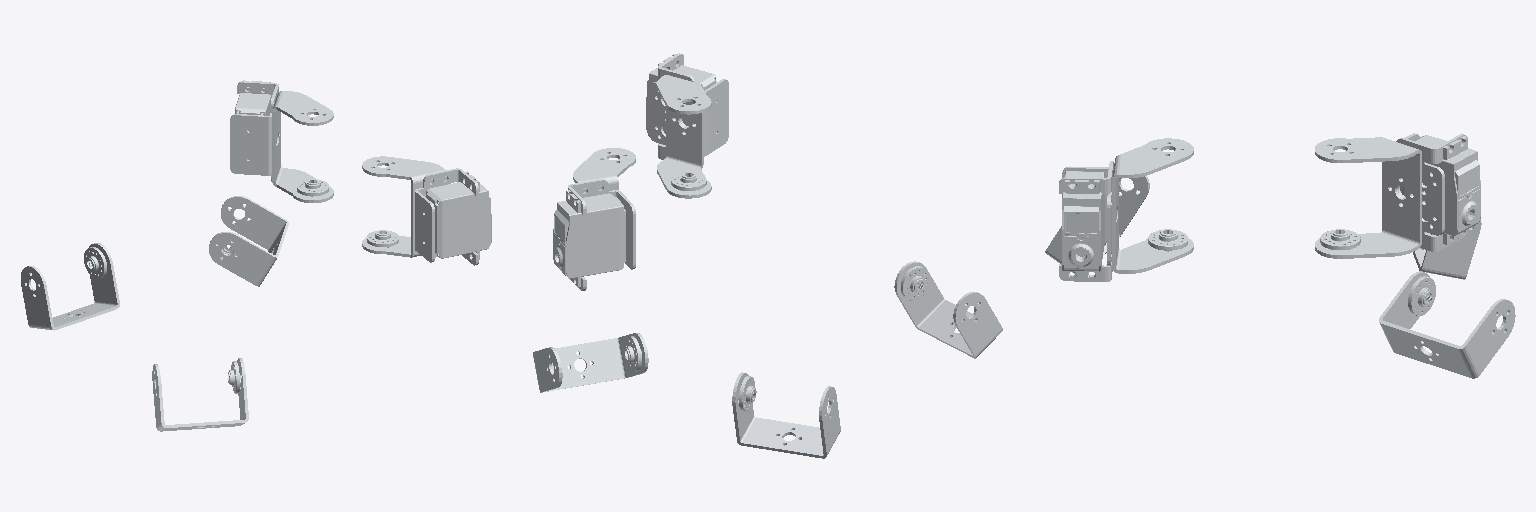
URDF robot description (Quadruped):
<?xml version="1.0" encoding="utf-8"?>
<!-- This URDF was automatically created by SolidWorks to URDF Exporter! Originally created by [author] ([email redacted]) 
     Commit Version: 1.6.0-4-g7f85cfe  Build Version: 1.6.7995.38578
     For more information, please see http://wiki.ros.org/sw_urdf_exporter -->
<robot
  name="Quadruped">
  <link
    name="base_link">
    <inertial>
      <origin
        xyz="0.00952304124015213 -0.0384999999836778 0.0139434635699888"
        rpy="0 0 0" />
      <mass
        value="0.267600954992518" />
      <inertia
        ixx="9.27694563083199E-05"
        ixy="7.75151444361343E-14"
        ixz="-2.56413813792822E-17"
        iyy="3.60005886849802E-05"
        iyz="6.50891916828143E-13"
        izz="9.02125920436437E-05" />
    </inertial>
    <visual>
      <origin
        xyz="0 0 0"
        rpy="0 0 0" />
      <geometry>
        <mesh
          filename="meshes/base_link.STL" />
      </geometry>
      <material
        name="">
        <color
          rgba="0.894117647058823 0.913725490196078 0.929411764705882 1" />
      </material>
    </visual>
    <collision>
      <origin
        xyz="0 0 0"
        rpy="0 0 0" />
      <geometry>
        <mesh
          filename="meshes/base_link.STL" />
      </geometry>
    </collision>
  </link>
  <link
    name="leg_1_hip">
    <inertial>
      <origin
        xyz="0.0238940041079062 0.031792584261488 0.026781309985059"
        rpy="0 0 0" />
      <mass
        value="0.067077762894934" />
      <inertia
        ixx="2.37941932882446E-05"
        ixy="-1.03091198376917E-06"
        ixz="-2.0851787492699E-08"
        iyy="2.49239414009393E-05"
        iyz="-5.27852080190577E-11"
        izz="1.06832163798715E-05" />
    </inertial>
    <visual>
      <origin
        xyz="0 0 0"
        rpy="0 0 0" />
      <geometry>
        <mesh
          filename="meshes/leg_1_hip.STL" />
      </geometry>
      <material
        name="">
        <color
          rgba="0.894117647058823 0.913725490196078 0.929411764705882 1" />
      </material>
    </visual>
    <collision>
      <origin
        xyz="0 0 0"
        rpy="0 0 0" />
      <geometry>
        <mesh
          filename="meshes/leg_1_hip.STL" />
      </geometry>
    </collision>
  </link>
  <joint
    name="leg1_hip_joint"
    type="revolute">
    <origin
      xyz="0.06197 -0.082557 0.0385"
      rpy="3.1416 0 -0.056054" />
    <parent
      link="base_link" />
    <child
      link="leg_1_hip" />
    <axis
      xyz="0 0 1" />
    <limit
      lower="0"
      upper="3"
      effort="10"
      velocity="5" />
  </joint>
  <link
    name="leg_1_knee">
    <inertial>
      <origin
        xyz="-0.0416421850295465 0.0235364816921849 -0.0309446231834363"
        rpy="0 0 0" />
      <mass
        value="0.0696914928060746" />
      <inertia
        ixx="2.57631280608198E-05"
        ixy="-3.96590049532033E-07"
        ixz="-1.13787464895981E-07"
        iyy="1.97651580535786E-05"
        iyz="-3.60662001602266E-07"
        izz="2.57670138527122E-05" />
    </inertial>
    <visual>
      <origin
        xyz="0 0 0"
        rpy="0 0 0" />
      <geometry>
        <mesh
          filename="meshes/leg_1_knee.STL" />
      </geometry>
      <material
        name="">
        <color
          rgba="0.298039215686275 0.298039215686275 0.298039215686275 1" />
      </material>
    </visual>
    <collision>
      <origin
        xyz="0 0 0"
        rpy="0 0 0" />
      <geometry>
        <mesh
          filename="meshes/leg_1_knee.STL" />
      </geometry>
    </collision>
  </link>
  <joint
    name="leg_1_knee_joint"
    type="revolute">
    <origin
      xyz="0.060665 0.04177 0.036307"
      rpy="3.1416 0 -1.5708" />
    <parent
      link="leg_1_hip" />
    <child
      link="leg_1_knee" />
    <axis
      xyz="0 -1 0" />
    <limit
      lower="0"
      upper="3"
      effort="10"
      velocity="5" />
  </joint>
  <link
    name="leg_1_ankle">
    <inertial>
      <origin
        xyz="3.36841665671272E-13 0.0280775387533091 0.0172277429088525"
        rpy="0 0 0" />
      <mass
        value="0.0169824099129692" />
      <inertia
        ixx="1.11378366738052E-05"
        ixy="-3.17637355220363E-22"
        ixz="-4.87043944671223E-21"
        iyy="3.39360074925846E-06"
        iyz="-1.38701645112892E-20"
        izz="9.36668224662848E-06" />
    </inertial>
    <visual>
      <origin
        xyz="0 0 0"
        rpy="0 0 0" />
      <geometry>
        <mesh
          filename="meshes/leg_1_ankle.STL" />
      </geometry>
      <material
        name="">
        <color
          rgba="0.298039215686275 0.298039215686275 0.298039215686275 1" />
      </material>
    </visual>
    <collision>
      <origin
        xyz="0 0 0"
        rpy="0 0 0" />
      <geometry>
        <mesh
          filename="meshes/leg_1_ankle.STL" />
      </geometry>
    </collision>
  </link>
  <joint
    name="leg_1_ankle_joint"
    type="revolute">
    <origin
      xyz="-0.046499 0.0005 -0.045091"
      rpy="3.1416 -1.0269 -3.1416" />
    <parent
      link="leg_1_knee" />
    <child
      link="leg_1_ankle" />
    <axis
      xyz="0 -1 0" />
    <limit
      lower="0"
      upper="3"
      effort="10"
      velocity="5" />
  </joint>
  <link
    name="leg_2_hip">
    <inertial>
      <origin
        xyz="0.0238940050809038 -0.0318845074159718 0.0267811755415515"
        rpy="0 0 0" />
      <mass
        value="0.0670777528778422" />
      <inertia
        ixx="2.37941887246457E-05"
        ixy="1.03091155379707E-06"
        ixz="-2.08140379608125E-08"
        iyy="2.49239360302726E-05"
        iyz="-5.3739351215238E-11"
        izz="1.06832159298643E-05" />
    </inertial>
    <visual>
      <origin
        xyz="0 0 0"
        rpy="0 0 0" />
      <geometry>
        <mesh
          filename="meshes/leg_2_hip.STL" />
      </geometry>
      <material
        name="">
        <color
          rgba="0.894117647058823 0.913725490196078 0.929411764705882 1" />
      </material>
    </visual>
    <collision>
      <origin
        xyz="0 0 0"
        rpy="0 0 0" />
      <geometry>
        <mesh
          filename="meshes/leg_2_hip.STL" />
      </geometry>
    </collision>
  </link>
  <joint
    name="leg_2_hip_joint"
    type="revolute">
    <origin
      xyz="0.06177 0.0055571 0.0385"
      rpy="3.1416 0 0.90705" />
    <parent
      link="base_link" />
    <child
      link="leg_2_hip" />
    <axis
      xyz="0 0 -1" />
    <limit
      lower="0"
      upper="3"
      effort="10"
      velocity="5" />
  </joint>
  <link
    name="leg_2_knee">
    <inertial>
      <origin
        xyz="-0.0172246793386854 0.0235364817623663 0.0489382442054168"
        rpy="0 0 0" />
      <mass
        value="0.0696914931210657" />
      <inertia
        ixx="2.58698344231019E-05"
        ixy="-1.27169967368347E-07"
        ixz="4.44517106603271E-08"
        iyy="1.97651573719921E-05"
        iyz="5.20757570984245E-07"
        izz="2.56603065089136E-05" />
    </inertial>
    <visual>
      <origin
        xyz="0 0 0"
        rpy="0 0 0" />
      <geometry>
        <mesh
          filename="meshes/leg_2_knee.STL" />
      </geometry>
      <material
        name="">
        <color
          rgba="0.894117647058823 0.913725490196078 0.929411764705882 1" />
      </material>
    </visual>
    <collision>
      <origin
        xyz="0 0 0"
        rpy="0 0 0" />
      <geometry>
        <mesh
          filename="meshes/leg_2_knee.STL" />
      </geometry>
    </collision>
  </link>
  <joint
    name="leg_2_knee_joint"
    type="revolute">
    <origin
      xyz="0.060665 -0.04197 0.036307"
      rpy="0 0 1.5708" />
    <parent
      link="leg_2_hip" />
    <child
      link="leg_2_knee" />
    <axis
      xyz="0 -1 0" />
    <limit
      lower="0"
      upper="3"
      effort="10"
      velocity="5" />
  </joint>
  <link
    name="leg_2_ankle">
    <inertial>
      <origin
        xyz="-8.41826608422025E-14 0.0280775387534135 0.0172277429085822"
        rpy="0 0 0" />
      <mass
        value="0.0169824099129692" />
      <inertia
        ixx="1.11378366738051E-05"
        ixy="-3.42121901351932E-21"
        ixz="6.85567291683949E-21"
        iyy="3.39360074925846E-06"
        iyz="9.15854374218712E-21"
        izz="9.36668224662836E-06" />
    </inertial>
    <visual>
      <origin
        xyz="0 0 0"
        rpy="0 0 0" />
      <geometry>
        <mesh
          filename="meshes/leg_2_ankle.STL" />
      </geometry>
      <material
        name="">
        <color
          rgba="0.894117647058823 0.913725490196078 0.929411764705882 1" />
      </material>
    </visual>
    <collision>
      <origin
        xyz="0 0 0"
        rpy="0 0 0" />
      <geometry>
        <mesh
          filename="meshes/leg_2_ankle.STL" />
      </geometry>
    </collision>
  </link>
  <joint
    name="leg_2_ankle_joint"
    type="revolute">
    <origin
      xyz="-0.013342 0.0005 0.063382"
      rpy="0 1.0652 0" />
    <parent
      link="leg_2_knee" />
    <child
      link="leg_2_ankle" />
    <axis
      xyz="0 -1 0" />
    <limit
      lower="0"
      upper="3"
      effort="10"
      velocity="5" />
  </joint>
  <link
    name="leg_3_hip">
    <inertial>
      <origin
        xyz="0.0241828875435537 0.0321769622766387 0.0275025602046744"
        rpy="0 0 0" />
      <mass
        value="0.0662764719650818" />
      <inertia
        ixx="2.3772765111836E-05"
        ixy="-1.03091231788725E-06"
        ixz="-2.08511149937911E-08"
        iyy="2.49025134599967E-05"
        iyz="-5.21654116313531E-11"
        izz="1.06429146618344E-05" />
    </inertial>
    <visual>
      <origin
        xyz="0 0 0"
        rpy="0 0 0" />
      <geometry>
        <mesh
          filename="meshes/leg_3_hip.STL" />
      </geometry>
      <material
        name="">
        <color
          rgba="0.894117647058823 0.913725490196078 0.929411764705882 1" />
      </material>
    </visual>
    <collision>
      <origin
        xyz="0 0 0"
        rpy="0 0 0" />
      <geometry>
        <mesh
          filename="meshes/leg_3_hip.STL" />
      </geometry>
    </collision>
  </link>
  <joint
    name="leg_3_hip_joint"
    type="revolute">
    <origin
      xyz="-0.04277 0.0055571 0.0395"
      rpy="-3.1416 0 -2.9812" />
    <parent
      link="base_link" />
    <child
      link="leg_3_hip" />
    <axis
      xyz="0 0 1" />
    <limit
      lower="0"
      upper="3"
      effort="10"
      velocity="5" />
  </joint>
  <link
    name="leg_3_knee">
    <inertial>
      <origin
        xyz="0.022535757284239 0.0235364816495744 0.0467309416989118"
        rpy="0 0 0" />
      <mass
        value="0.0696914925297254" />
      <inertia
        ixx="2.58574870571026E-05"
        ixy="1.84030699074035E-07"
        ixz="-6.64124283965437E-08"
        iyy="1.97651572319704E-05"
        iyz="5.03481342492272E-07"
        izz="2.56726536984704E-05" />
    </inertial>
    <visual>
      <origin
        xyz="0 0 0"
        rpy="0 0 0" />
      <geometry>
        <mesh
          filename="meshes/leg_3_knee.STL" />
      </geometry>
      <material
        name="">
        <color
          rgba="0.298039215686275 0.298039215686275 0.298039215686275 1" />
      </material>
    </visual>
    <collision>
      <origin
        xyz="0 0 0"
        rpy="0 0 0" />
      <geometry>
        <mesh
          filename="meshes/leg_3_knee.STL" />
      </geometry>
    </collision>
  </link>
  <joint
    name="leg_3_knee_joint"
    type="revolute">
    <origin
      xyz="0.060665 0.04177 0.037307"
      rpy="0 0 1.5708" />
    <parent
      link="leg_3_hip" />
    <child
      link="leg_3_knee" />
    <axis
      xyz="0 1 0" />
    <limit
      lower="0"
      upper="3"
      effort="10"
      velocity="5" />
  </joint>
  <link
    name="leg_3_ankle">
    <inertial>
      <origin
        xyz="5.43953770915095E-13 -0.0280775387471619 -0.0172277429114426"
        rpy="0 0 0" />
      <mass
        value="0.0169824099129693" />
      <inertia
        ixx="1.11378366738053E-05"
        ixy="-6.35274710440725E-22"
        ixz="3.17637355220363E-21"
        iyy="3.3936007492585E-06"
        iyz="-2.27640104574593E-20"
        izz="9.3666822466285E-06" />
    </inertial>
    <visual>
      <origin
        xyz="0 0 0"
        rpy="0 0 0" />
      <geometry>
        <mesh
          filename="meshes/leg_3_ankle.STL" />
      </geometry>
      <material
        name="">
        <color
          rgba="0.894117647058823 0.913725490196078 0.929411764705882 1" />
      </material>
    </visual>
    <collision>
      <origin
        xyz="0 0 0"
        rpy="0 0 0" />
      <geometry>
        <mesh
          filename="meshes/leg_3_ankle.STL" />
      </geometry>
    </collision>
  </link>
  <joint
    name="leg_3_ankle"
    type="revolute">
    <origin
      xyz="0.020276 0.0005 0.061516"
      rpy="-3.1416 -0.27473 0" />
    <parent
      link="leg_3_knee" />
    <child
      link="leg_3_ankle" />
    <axis
      xyz="0 -1 0" />
    <limit
      lower="0"
      upper="3"
      effort="10"
      velocity="5" />
  </joint>
  <link
    name="leg_4_hip">
    <inertial>
      <origin
        xyz="0.0241828890191002 -0.0321769654646224 0.0265024258626731"
        rpy="0 0 0" />
      <mass
        value="0.0662764580966196" />
      <inertia
        ixx="2.37727593793705E-05"
        ixy="1.03091197436808E-06"
        ixz="-2.08148141525333E-08"
        iyy="2.49025066568201E-05"
        iyz="-5.32912244693011E-11"
        izz="1.06429147248075E-05" />
    </inertial>
    <visual>
      <origin
        xyz="0 0 0"
        rpy="0 0 0" />
      <geometry>
        <mesh
          filename="meshes/leg_4_hip.STL" />
      </geometry>
      <material
        name="">
        <color
          rgba="0.298039215686275 0.298039215686275 0.298039215686275 1" />
      </material>
    </visual>
    <collision>
      <origin
        xyz="0 0 0"
        rpy="0 0 0" />
      <geometry>
        <mesh
          filename="meshes/leg_4_hip.STL" />
      </geometry>
    </collision>
  </link>
  <joint
    name="leg_4_hip_joint"
    type="revolute">
    <origin
      xyz="-0.04277 -0.082557 0.0385"
      rpy="-3.1416 0 2.7813" />
    <parent
      link="base_link" />
    <child
      link="leg_4_hip" />
    <axis
      xyz="0 0 -1" />
    <limit
      lower="0"
      upper="3"
      effort="10"
      velocity="5" />
  </joint>
  <link
    name="leg_4_knee">
    <inertial>
      <origin
        xyz="0.00942340047874446 -0.0235364817845292 0.0510180443538506"
        rpy="0 0 0" />
      <mass
        value="0.0696914932488991" />
      <inertia
        ixx="2.58784171248653E-05"
        ixy="-4.48351221784355E-08"
        ixz="-1.0197338788005E-08"
        iyy="1.97651575974079E-05"
        iyz="-5.34182043984853E-07"
        izz="2.56517241069841E-05" />
    </inertial>
    <visual>
      <origin
        xyz="0 0 0"
        rpy="0 0 0" />
      <geometry>
        <mesh
          filename="meshes/leg_4_knee.STL" />
      </geometry>
      <material
        name="">
        <color
          rgba="0.894117647058823 0.913725490196078 0.929411764705882 1" />
      </material>
    </visual>
    <collision>
      <origin
        xyz="0 0 0"
        rpy="0 0 0" />
      <geometry>
        <mesh
          filename="meshes/leg_4_knee.STL" />
      </geometry>
    </collision>
  </link>
  <joint
    name="leg_4_knee_joint"
    type="revolute">
    <origin
      xyz="0.060665 -0.04177 0.036307"
      rpy="0 0 -1.5708" />
    <parent
      link="leg_4_hip" />
    <child
      link="leg_4_knee" />
    <axis
      xyz="0 -1 0" />
    <limit
      lower="0"
      upper="3"
      effort="10"
      velocity="5" />
  </joint>
  <link
    name="leg_4_ankle">
    <inertial>
      <origin
        xyz="-4.28879154412698E-13 -0.0280775387534245 -0.017227742908787"
        rpy="0 0 0" />
      <mass
        value="0.0169824099129693" />
      <inertia
        ixx="1.11378366738053E-05"
        ixy="1.28643128864247E-20"
        ixz="-5.39983503874616E-21"
        iyy="3.39360074925848E-06"
        iyz="-3.28225267061041E-21"
        izz="9.36668224662849E-06" />
    </inertial>
    <visual>
      <origin
        xyz="0 0 0"
        rpy="0 0 0" />
      <geometry>
        <mesh
          filename="meshes/leg_4_ankle.STL" />
      </geometry>
      <material
        name="">
        <color
          rgba="0.894117647058823 0.913725490196078 0.929411764705882 1" />
      </material>
    </visual>
    <collision>
      <origin
        xyz="0 0 0"
        rpy="0 0 0" />
      <geometry>
        <mesh
          filename="meshes/leg_4_ankle.STL" />
      </geometry>
    </collision>
  </link>
  <joint
    name="leg_4_ankle_joint"
    type="revolute">
    <origin
      xyz="0.0033472 -0.0005 0.064685"
      rpy="-3.1416 -0.5198 3.1416" />
    <parent
      link="leg_4_knee" />
    <child
      link="leg_4_ankle" />
    <axis
      xyz="0 -1 0" />
    <limit
      lower="0"
      upper="3"
      effort="10"
      velocity="5" />
  </joint>
</robot>

--- Facts derived from the render (not from the file) ---
3 views of the same robot in one strip: view 1: azimuth 30°, elevation 25°; view 2: azimuth 150°, elevation 25°; view 3: azimuth 270°, elevation 25° (orthographic).
Robot: Quadruped — 13 links, 12 joints (12 revolute); root link base_link; default pose: every joint at zero.
Links seen in each view (by area): view 1: leg_1_hip, leg_2_hip, leg_2_ankle, leg_3_ankle, leg_4_ankle; view 2: leg_1_hip, leg_2_hip, leg_4_ankle, leg_3_ankle, leg_2_ankle; view 3: leg_2_hip, leg_1_hip, leg_2_ankle, leg_3_ankle, leg_4_ankle.
Boxes of the visible links, <box> form: leg_1_hip: <box>362,156,491,265</box>; leg_2_hip: <box>230,80,333,202</box>; leg_2_ankle: <box>209,196,288,286</box>; leg_3_ankle: <box>21,243,119,330</box>; leg_4_ankle: <box>152,358,248,431</box>; leg_1_hip: <box>646,53,728,198</box>; leg_2_hip: <box>553,148,635,290</box>; leg_4_ankle: <box>894,261,1002,358</box>; leg_3_ankle: <box>732,372,840,458</box>; leg_2_ankle: <box>533,333,648,392</box>; leg_2_hip: <box>1315,133,1480,258</box>; leg_1_hip: <box>1059,138,1193,281</box>; leg_2_ankle: <box>1379,271,1515,378</box>; leg_3_ankle: <box>1413,218,1481,279</box>; leg_4_ankle: <box>1045,176,1149,273</box>.
Size in the robot's own frame: 0.2367 by 0.2411 by 0.135 metres.
5 mesh visuals loaded from 13 distinct referenced files (5 binary STL); not drawn: 8 (reference not matched to a file when rendering).